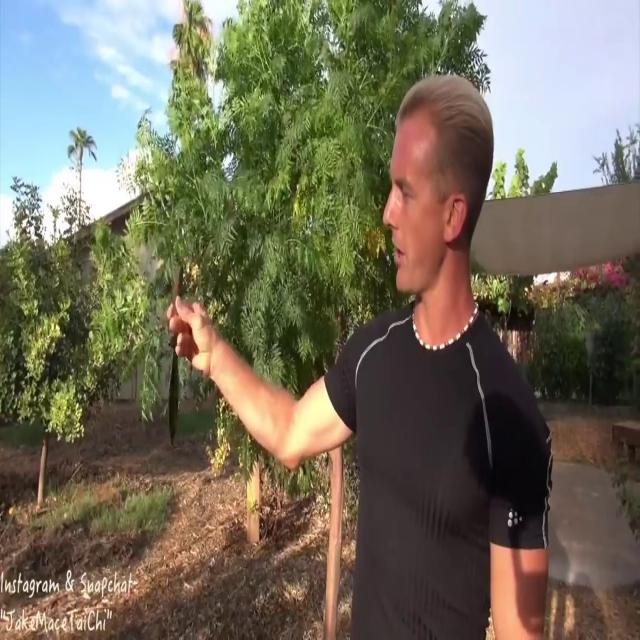knife: (150, 251, 202, 464)
